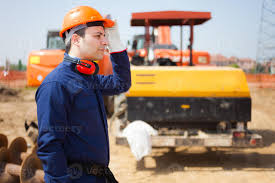casque: (36, 6, 134, 183)
